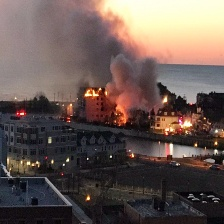fire: (82, 87, 110, 99)
smoke: (3, 1, 165, 111)
